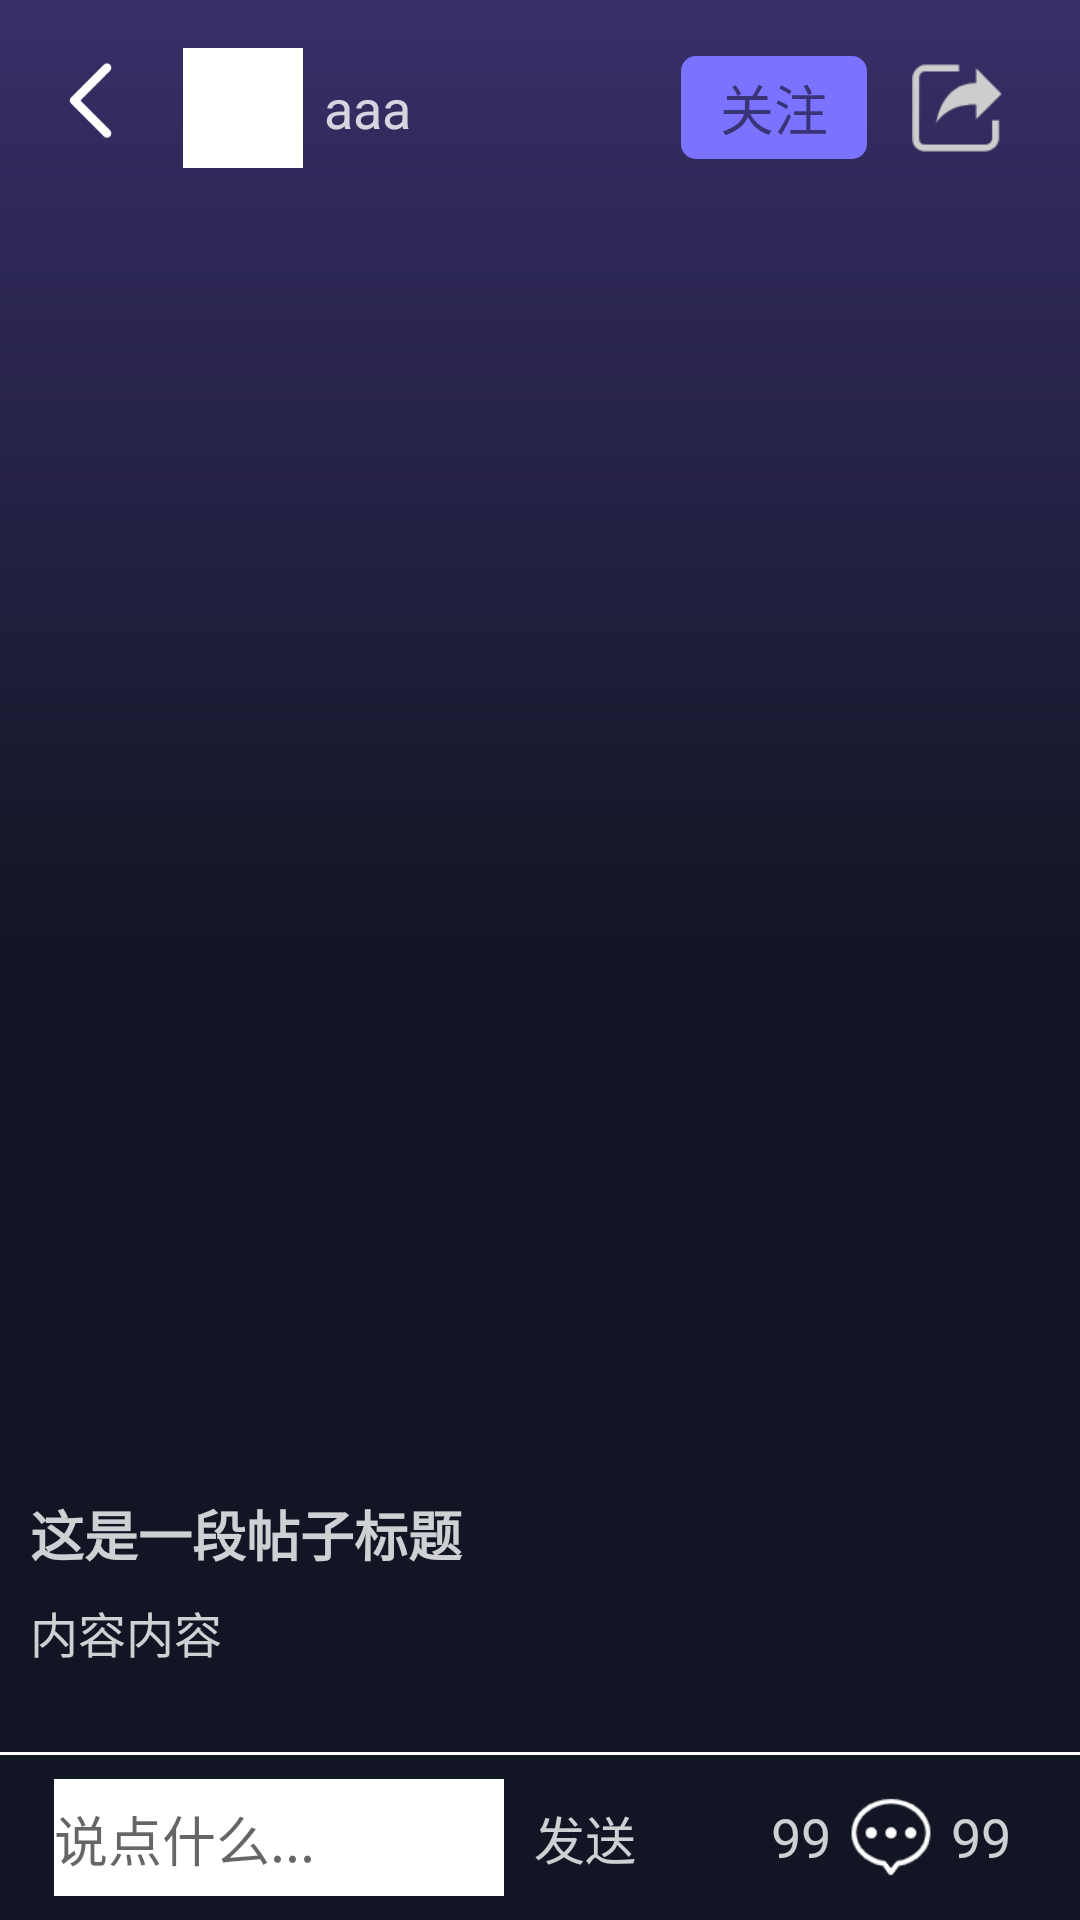

Icon bounding boxes for this 1080*1920 phone screenshot, format (x1, y1, x2, y2):
back: (69, 63, 112, 138)
share: (912, 64, 1002, 152)
